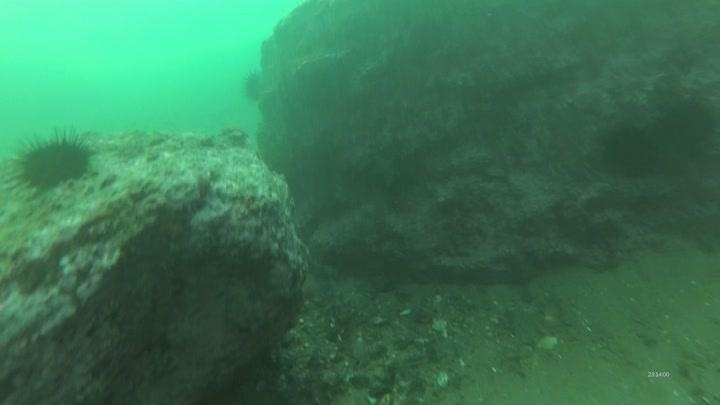echinus: (11, 127, 96, 195), (648, 97, 718, 167), (599, 122, 661, 179), (240, 68, 271, 105)
